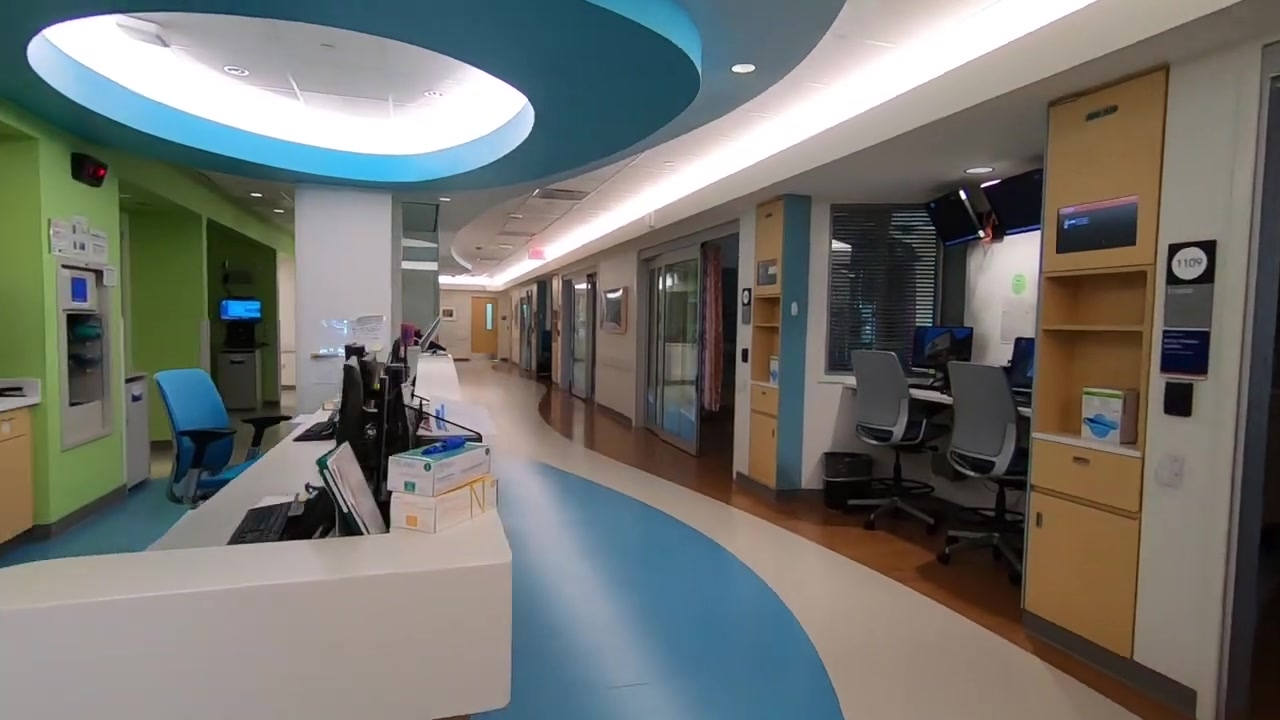TV: (982, 165, 1044, 238), (922, 186, 986, 249)
cabinet: (1040, 66, 1168, 273)
chair: (937, 358, 1029, 588), (842, 349, 949, 536), (152, 369, 293, 510)
computer: (335, 355, 389, 501), (911, 326, 973, 395), (1008, 336, 1034, 390), (219, 297, 261, 326), (360, 353, 380, 402)
counter: (4, 333, 511, 717)
countertop: (1, 353, 510, 615)
curtain: (703, 242, 725, 410)
dispenser: (388, 439, 502, 530), (1081, 389, 1123, 444)
drawer: (1018, 433, 1140, 667)
handle: (1072, 454, 1092, 467), (1034, 510, 1044, 529), (759, 389, 770, 398), (770, 426, 776, 441)
keyboard: (226, 499, 291, 545), (293, 421, 337, 442)
waste_bin: (823, 451, 871, 512)
